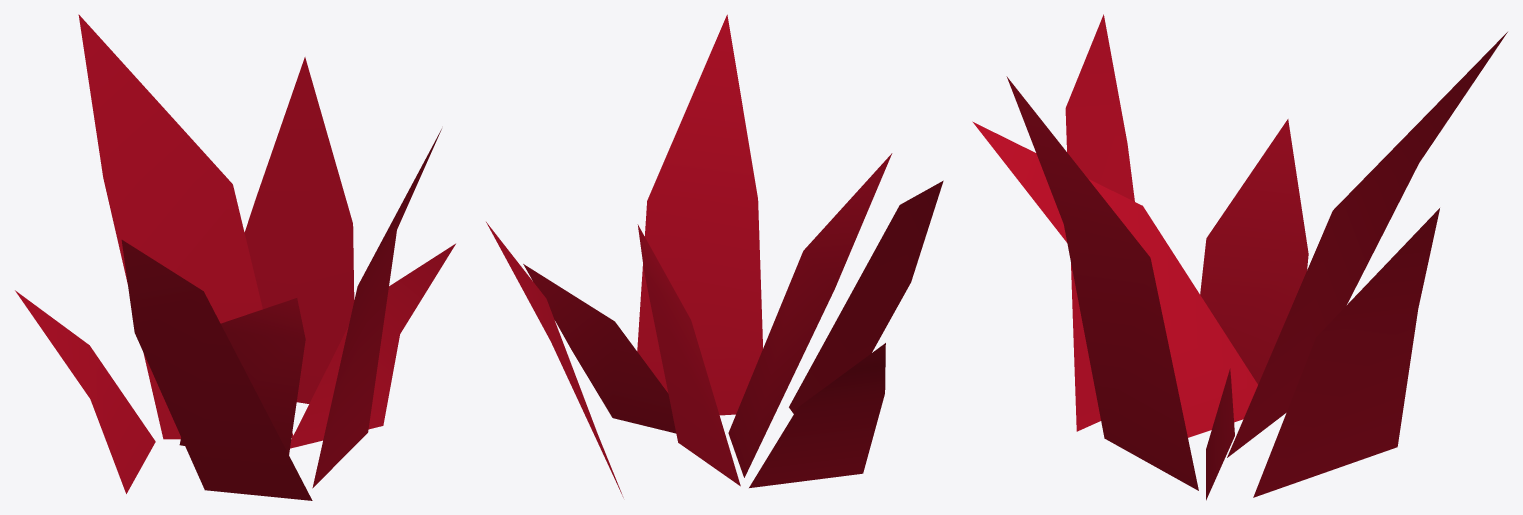
Rendered from Forest_Grass_04.obj.
The picture shows the model from 3 angles, left to right: view 1: azimuth 30°, elevation 25°; view 2: azimuth 150°, elevation 25°; view 3: azimuth 270°, elevation 25°; orthographic projection. The views are drawn at different scales.
Parts seen in each view (by area): view 1: Forest_Grass_04; view 2: Forest_Grass_04; view 3: Forest_Grass_04.
Boxes of the visible parts, x1,y1,x2,y2 form: Forest_Grass_04: (15, 14, 455, 500); Forest_Grass_04: (486, 14, 943, 497); Forest_Grass_04: (972, 14, 1507, 500).
Bounding box in the file's own units: 0.1365 × 0.1175 × 0.1399.
